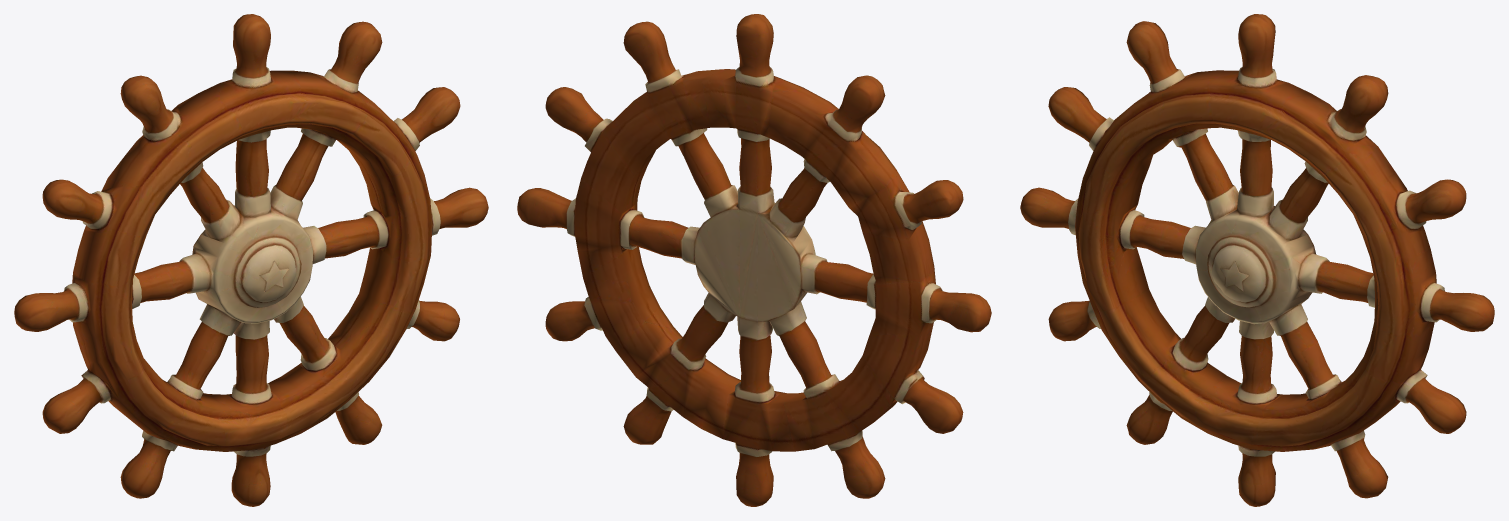
Rendered from ship_wheel.glb.
3 renders of one model, left to right at view 1: azimuth 30°, elevation 25°; view 2: azimuth 150°, elevation 25°; view 3: azimuth 330°, elevation 25°, orthographic.
Parts seen in each view (by area): view 1: geometry_0; view 2: geometry_0; view 3: geometry_0.
Boxes of the visible parts, left/top/right/bottom form: geometry_0: left=14, top=14, right=488, bottom=506; geometry_0: left=517, top=14, right=991, bottom=506; geometry_0: left=1020, top=14, right=1494, bottom=506.
Bounding box in the file's own units: 0.9565 × 0.9507 × 0.1064.
Materials: 1 (1 with a texture image).
